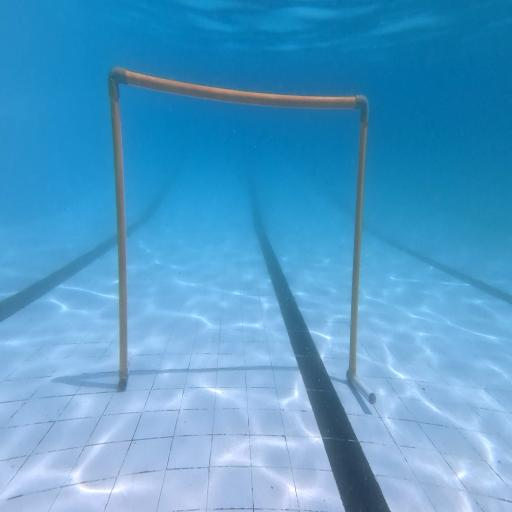gate: (108, 66, 376, 404)
